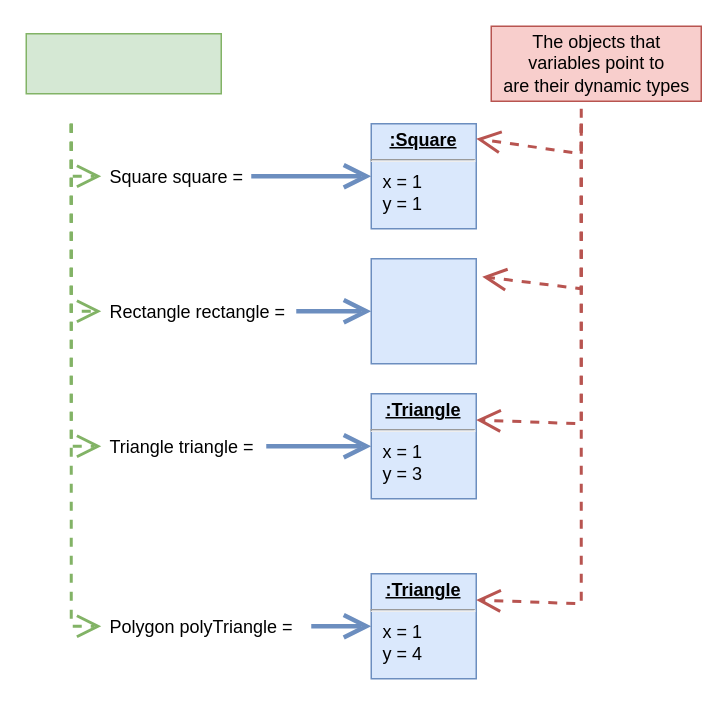
Some shapes in this 728 by 705 pixel diagram are drawn without their labels. The shapes that lost their labels are listed below. From the top down, each one's box as (x1, y1, x2, y2) in pixels, then its label:
(25, 32, 221, 94): Variables have declared static types
(370, 257, 476, 364): :Rectangle x = 1 y = 2
